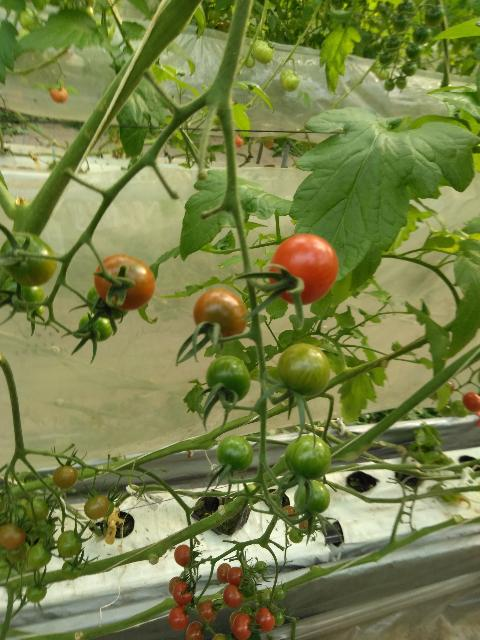l_fully_ripened: (268, 234, 338, 307), (251, 607, 275, 632), (169, 606, 189, 631), (233, 614, 253, 639), (173, 581, 192, 606), (227, 567, 246, 589), (174, 544, 192, 566), (289, 527, 303, 544)
l_green: (0, 231, 57, 286), (278, 344, 330, 398), (284, 434, 330, 480), (206, 356, 250, 403), (1, 277, 45, 313), (86, 285, 130, 320), (216, 435, 253, 473), (294, 479, 330, 514), (79, 311, 115, 341), (56, 530, 83, 557), (27, 545, 52, 569), (26, 498, 50, 521), (26, 581, 47, 603), (62, 559, 83, 579), (239, 581, 257, 598), (101, 498, 115, 518), (273, 610, 285, 626), (273, 585, 285, 600), (254, 560, 267, 573)
l_half_ripened: (94, 254, 156, 311), (193, 289, 248, 344), (0, 522, 26, 550), (84, 495, 109, 520), (53, 465, 77, 489), (223, 584, 243, 608), (197, 599, 217, 623), (186, 621, 204, 640), (169, 576, 184, 596), (217, 563, 231, 584)
